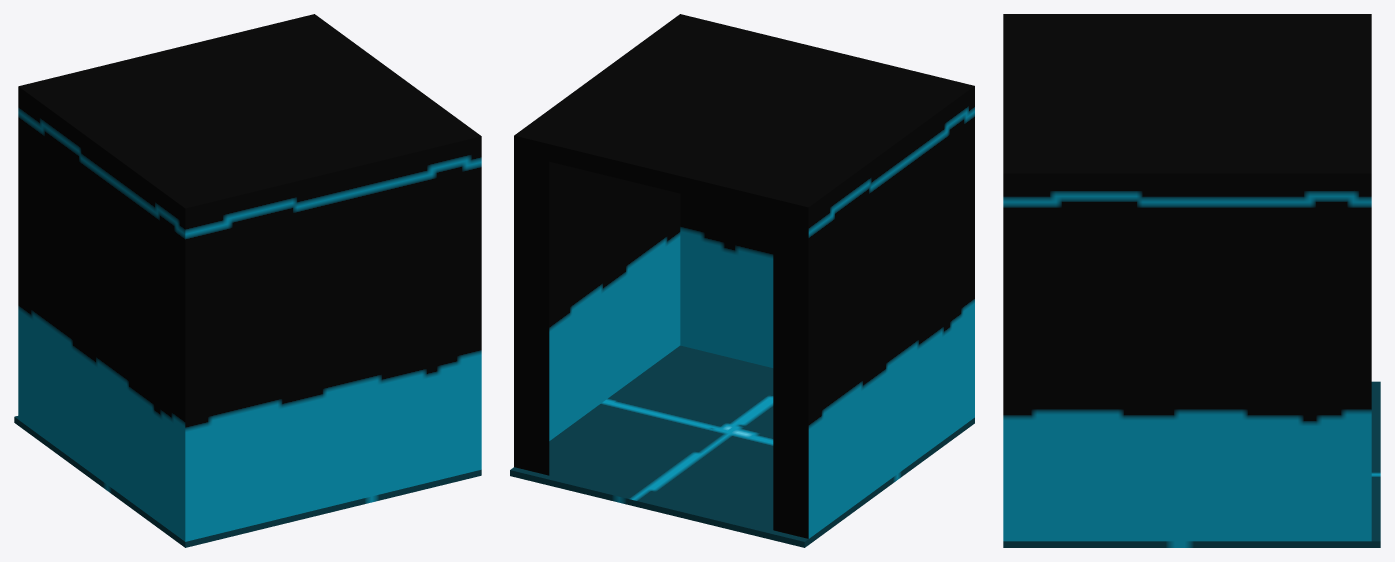
The model's file is fake_lifttt.glb.
3 views of the same model, side by side, from view 1: azimuth 30°, elevation 25°; view 2: azimuth 150°, elevation 25°; view 3: azimuth 270°, elevation 25° (orthographic). The views are drawn at different scales.
Parts seen in each view (by area): view 1: ElevatorCar.001, elevator_floor_open.001; view 2: ElevatorCar.001, elevator_floor_open.001; view 3: ElevatorCar.001, elevator_floor_open.001.
Boxes of the visible parts, x1=… form: ElevatorCar.001: x1=18, y1=14, x2=481, y2=541; elevator_floor_open.001: x1=14, y1=416, x2=481, y2=547; ElevatorCar.001: x1=514, y1=14, x2=974, y2=538; elevator_floor_open.001: x1=510, y1=345, x2=974, y2=547; ElevatorCar.001: x1=1003, y1=14, x2=1371, y2=541; elevator_floor_open.001: x1=1003, y1=381, x2=1380, y2=547.
Bounding box in the file's own units: 2.5 × 2.74 × 2.5.
Materials: 2 (2 with a texture image).
